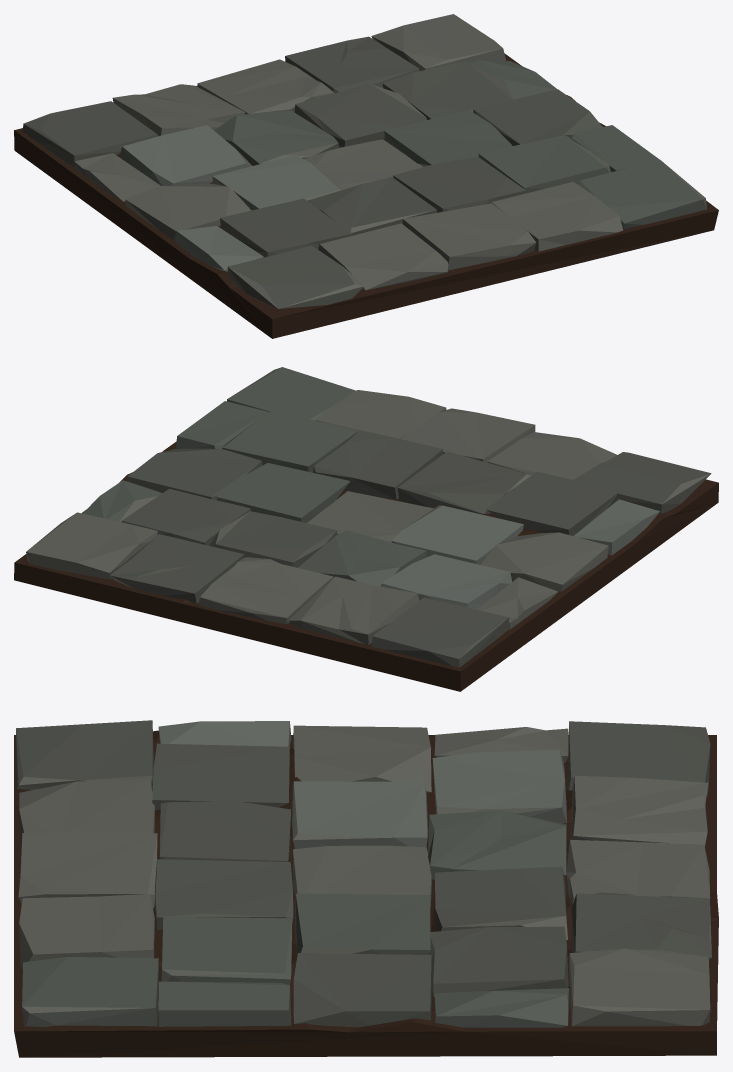
Rendered from MCastle_TileSlabs_01.FBX.
The picture shows the model from 3 angles, top to bottom: view 1: azimuth 30°, elevation 25°; view 2: azimuth 150°, elevation 25°; view 3: azimuth 270°, elevation 25°; orthographic projection. The views are drawn at different scales.
Parts seen in each view (by area): view 1: MCastle_TileSlabs_01_LOD0; view 2: MCastle_TileSlabs_01_LOD0; view 3: MCastle_TileSlabs_01_LOD0.
Part boxes in pixels (left/top/right/bottom): MCastle_TileSlabs_01_LOD0: left=14, top=14, right=718, bottom=338; MCastle_TileSlabs_01_LOD0: left=14, top=367, right=718, bottom=691; MCastle_TileSlabs_01_LOD0: left=14, top=720, right=718, bottom=1057.
Size of what is drawn, in the model's own units: 4.42 by 0.3609 by 4.43.
